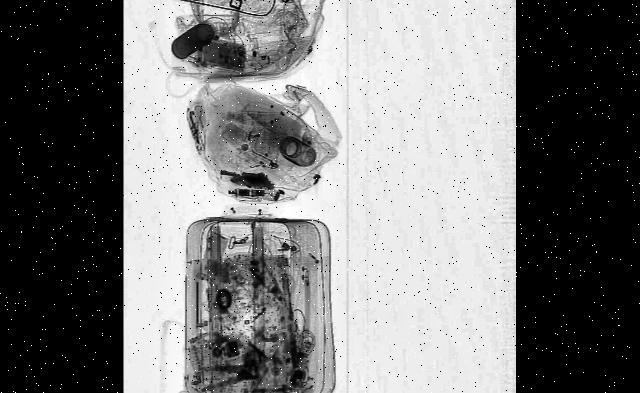Pliers: (198, 357, 259, 392)
